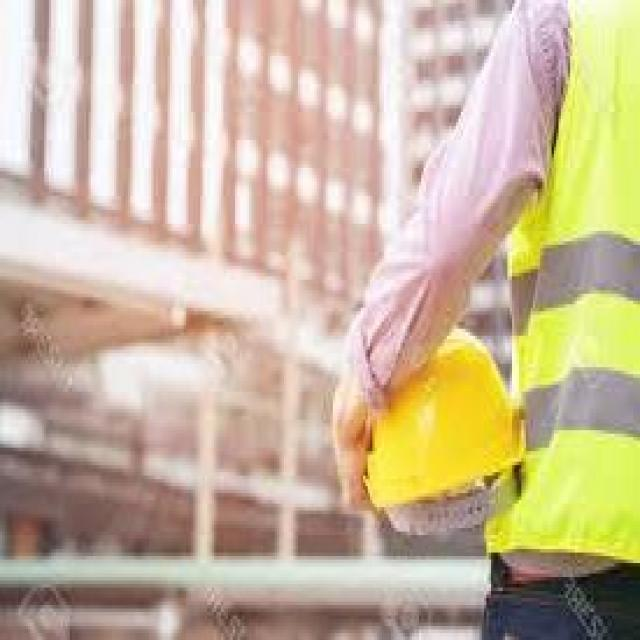Reflective-Jacket: (486, 1, 638, 588)
Safety-Helmet: (340, 319, 533, 530)
